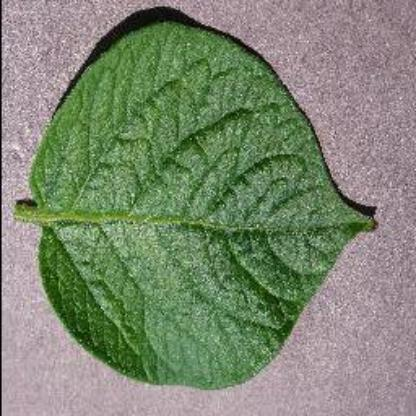Healthy-plant: (15, 10, 387, 388)
